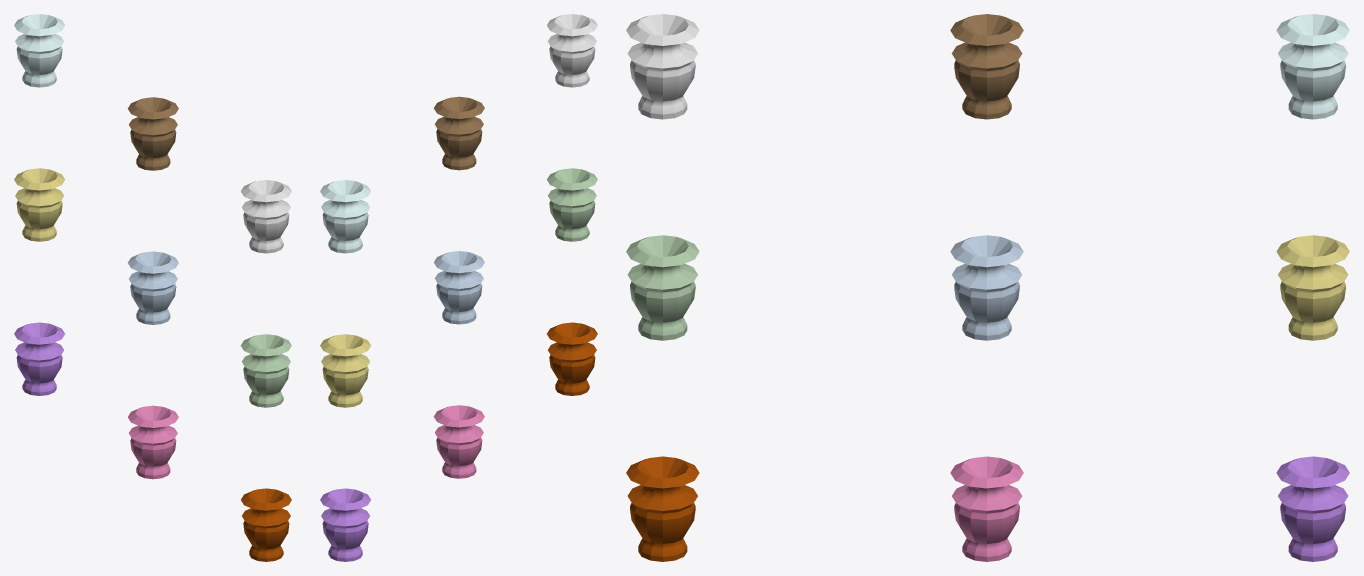
File: vase_7.fbx
3 views of the same model, side by side, from view 1: azimuth 30°, elevation 25°; view 2: azimuth 150°, elevation 25°; view 3: azimuth 270°, elevation 25° (orthographic). The views are drawn at different scales.
Visible parts, largest first — view 1: pCylinder187, pCylinder196, pCylinder223, pCylinder178, pCylinder214, pCylinder232, pCylinder169, pCylinder241, pCylinder205; view 2: pCylinder178, pCylinder196, pCylinder223, pCylinder187, pCylinder205, pCylinder241, pCylinder169, pCylinder214, pCylinder232; view 3: pCylinder169, pCylinder178, pCylinder205, pCylinder214, pCylinder232, pCylinder241, pCylinder196, pCylinder223, pCylinder187.
Part boxes in pixels (bbox=[...]): pCylinder187: bbox=[128, 405, 178, 479]; pCylinder196: bbox=[240, 334, 291, 407]; pCylinder223: bbox=[14, 168, 64, 241]; pCylinder178: bbox=[127, 97, 178, 170]; pCylinder214: bbox=[241, 488, 291, 561]; pCylinder232: bbox=[14, 14, 64, 87]; pCylinder169: bbox=[128, 251, 178, 324]; pCylinder241: bbox=[14, 322, 64, 395]; pCylinder205: bbox=[241, 180, 291, 253]; pCylinder178: bbox=[434, 96, 484, 170]; pCylinder196: bbox=[547, 168, 597, 241]; pCylinder223: bbox=[320, 334, 371, 407]; pCylinder187: bbox=[433, 405, 484, 478]; pCylinder205: bbox=[547, 14, 597, 87]; pCylinder241: bbox=[320, 488, 370, 561]; pCylinder169: bbox=[434, 251, 484, 324]; pCylinder214: bbox=[547, 322, 597, 395]; pCylinder232: bbox=[320, 180, 370, 253]; pCylinder169: bbox=[950, 235, 1023, 340]; pCylinder178: bbox=[950, 14, 1023, 119]; pCylinder205: bbox=[626, 14, 699, 119]; pCylinder214: bbox=[626, 456, 699, 561]; pCylinder232: bbox=[1276, 14, 1349, 119]; pCylinder241: bbox=[1276, 456, 1349, 561]; pCylinder196: bbox=[626, 235, 699, 340]; pCylinder223: bbox=[1276, 235, 1349, 340]; pCylinder187: bbox=[950, 456, 1023, 561].
Size of the model in its own units: 2.71 by 21.43 by 26.69.
